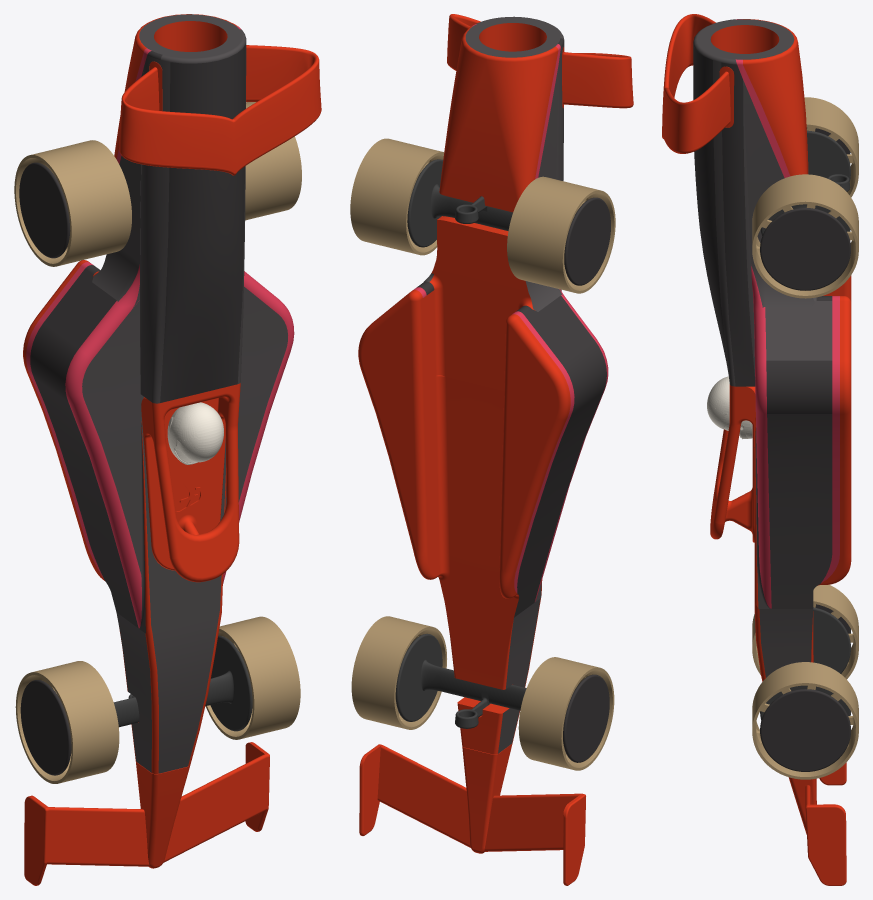
File: Caravela.fbx
3 views of the same model, side by side, from view 1: azimuth 30°, elevation 25°; view 2: azimuth 150°, elevation 25°; view 3: azimuth 270°, elevation 25° (orthographic). The views are drawn at different scales.
Parts seen in each view (by area): view 1: Nose, Body1 (×4), Body15, Body25, Halo, Wheel Cap Right (×2), Axle, 2025_helmet__with_6mm_dia_spigot_final; view 2: Nose, Body1 (×4), Body15, Axle (×2), Wheel Cap Right (×2), Body25; view 3: Nose, Body1 (×4), Wheel Cap Left (×2), Body25, Axle (×2), Body15, Halo, 2025_helmet__with_6mm_dia_spigot_final.
Boxes of the visible parts, bbox=[...] form: Nose: bbox=[23, 14, 294, 773]; Body1 (×4): bbox=[14, 102, 301, 783]; Body15: bbox=[24, 742, 269, 885]; Body25: bbox=[119, 45, 321, 175]; Halo: bbox=[141, 383, 240, 582]; Wheel Cap Right (×2): bbox=[19, 162, 71, 775]; Axle: bbox=[113, 635, 252, 731]; 2025_helmet__with_6mm_dia_spigot_final: bbox=[167, 402, 223, 464]; Nose: bbox=[358, 16, 608, 754]; Body1 (×4): bbox=[350, 138, 615, 770]; Body15: bbox=[359, 743, 585, 885]; Axle (×2): bbox=[395, 159, 526, 728]; Wheel Cap Right (×2): bbox=[563, 197, 610, 762]; Body25: bbox=[447, 14, 633, 108]; Nose: bbox=[693, 19, 851, 681]; Body1 (×4): bbox=[752, 97, 858, 779]; Wheel Cap Left (×2): bbox=[760, 208, 850, 771]; Body25: bbox=[662, 14, 733, 153]; Axle (×2): bbox=[760, 130, 850, 720]; Body15: bbox=[788, 762, 846, 885]; Halo: bbox=[710, 384, 755, 542]; 2025_helmet__with_6mm_dia_spigot_final: bbox=[707, 376, 752, 439].
Bounding box in the file's own units: 65.2 × 232 × 51.85.
